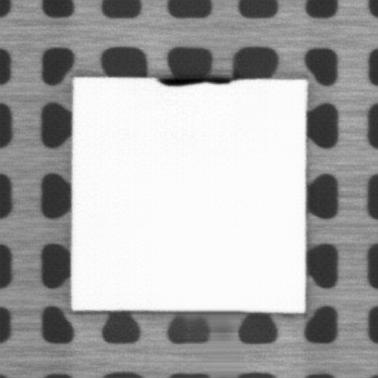DIE_BROKEN: (157, 76, 235, 87)
